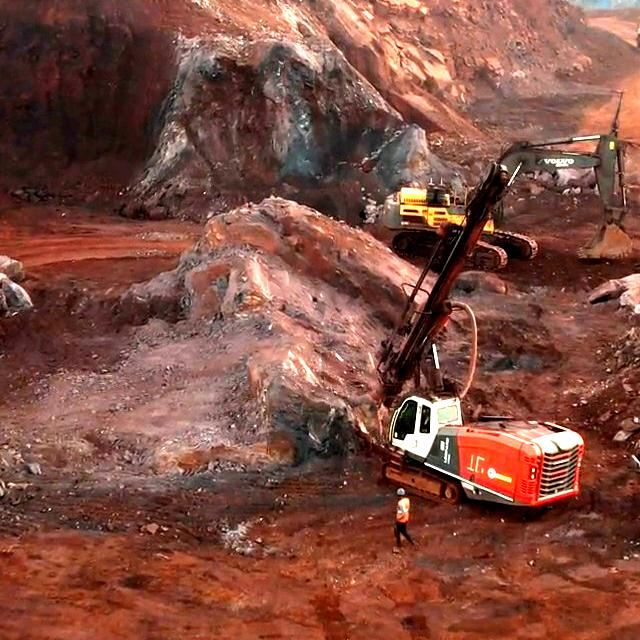Blast rig: (385, 382, 581, 478)
Excavator: (395, 188, 505, 255)
person: (395, 486, 409, 547)
